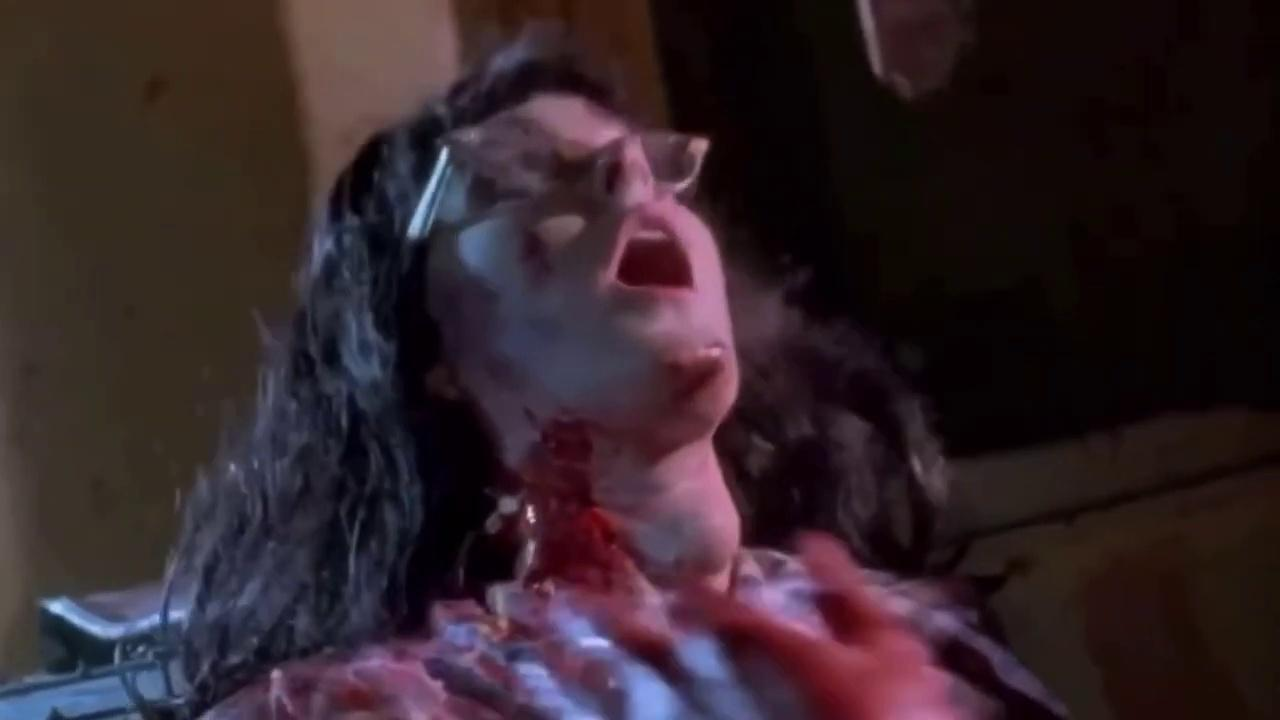Fire: (206, 421, 1055, 720), (653, 339, 730, 410)
